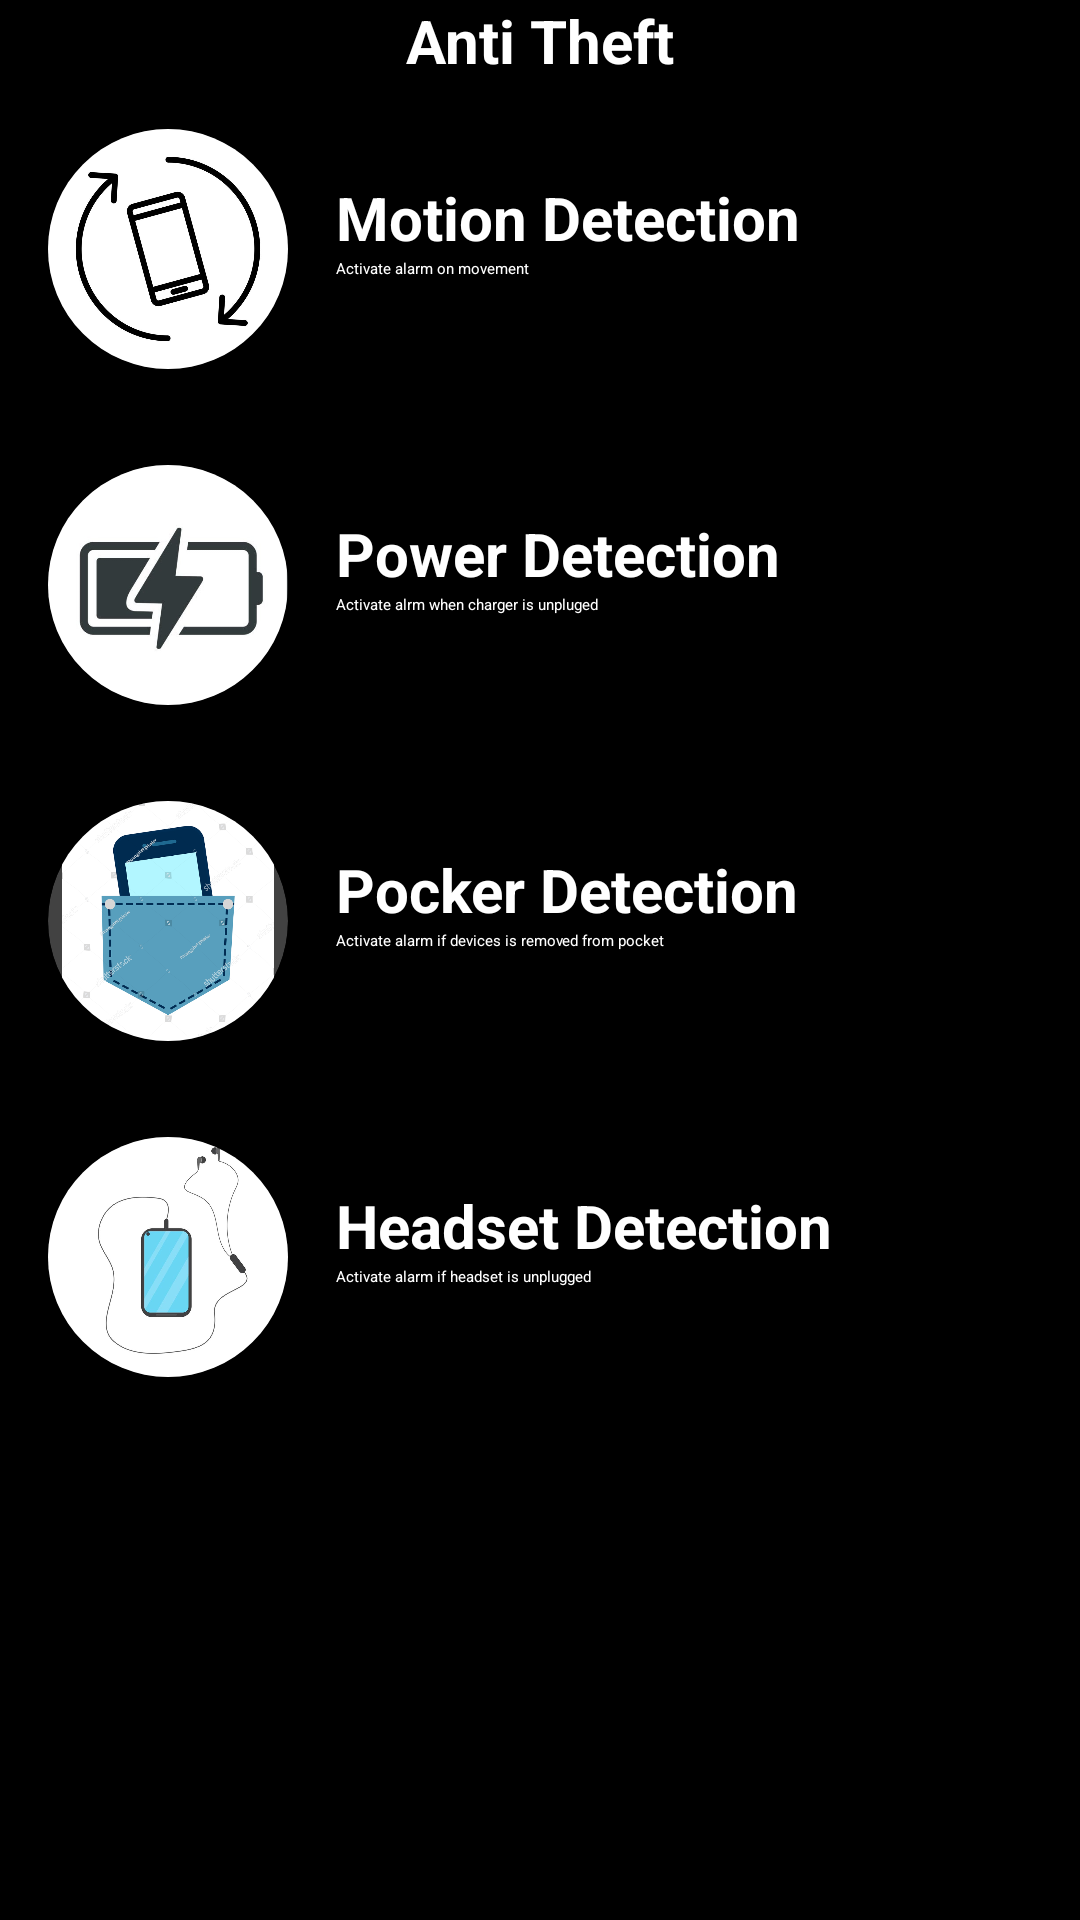

Named icons in this screenshot (1080w x 1920h) and their bounding boxes, (x1, y1, x2, y2):
charging: (48, 465, 288, 705)
